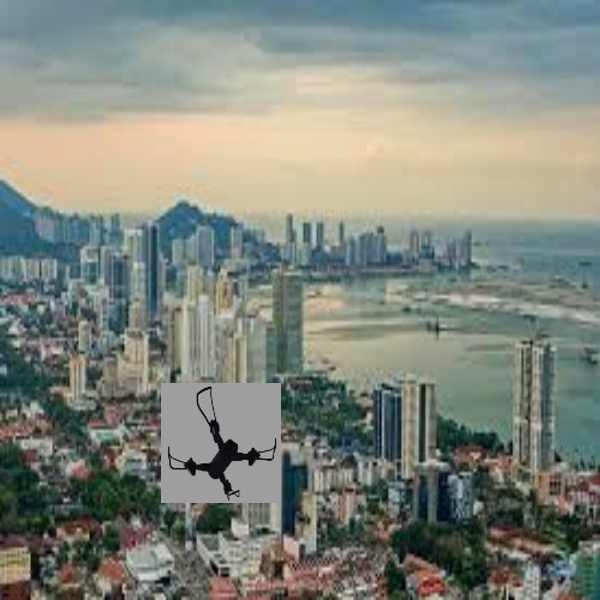drone: (169, 384, 281, 500)
